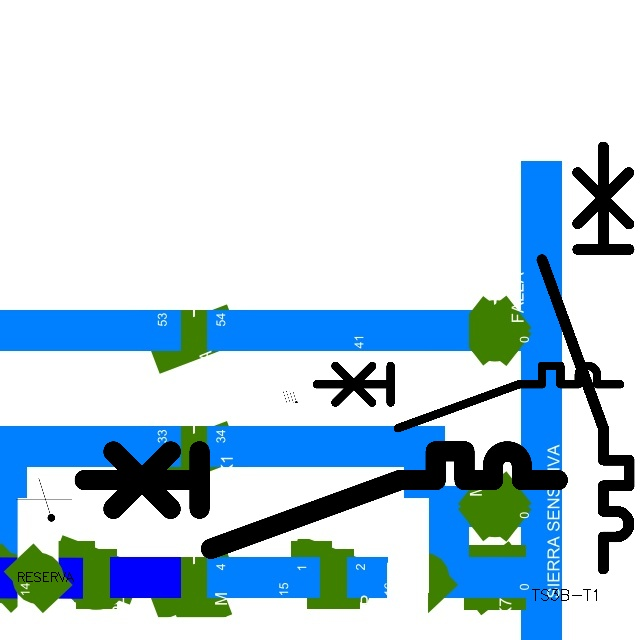interruptor_termomagnetico: (72, 439, 570, 561), (531, 136, 640, 580), (309, 358, 628, 436)
